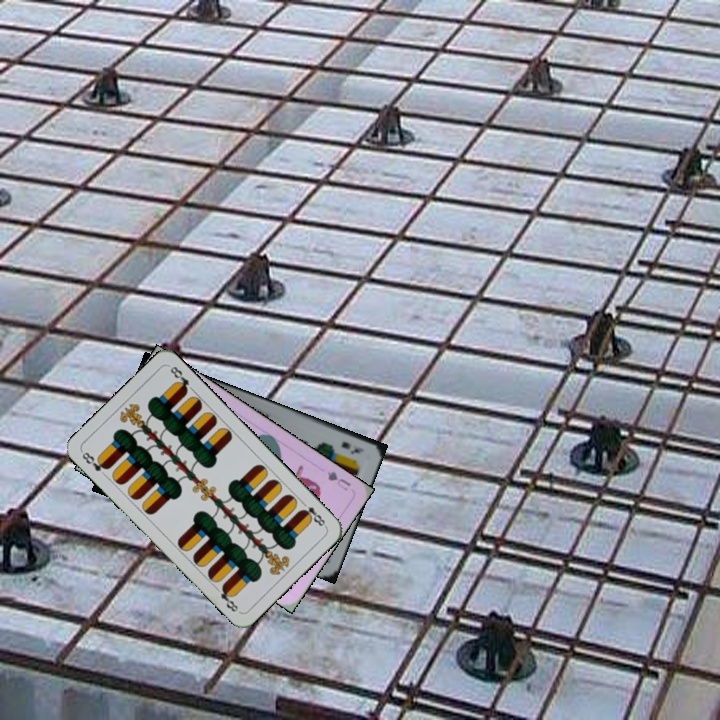E8: (297, 497, 329, 530), (78, 448, 112, 474)
EK: (337, 437, 367, 456)
GU: (323, 467, 353, 493)
